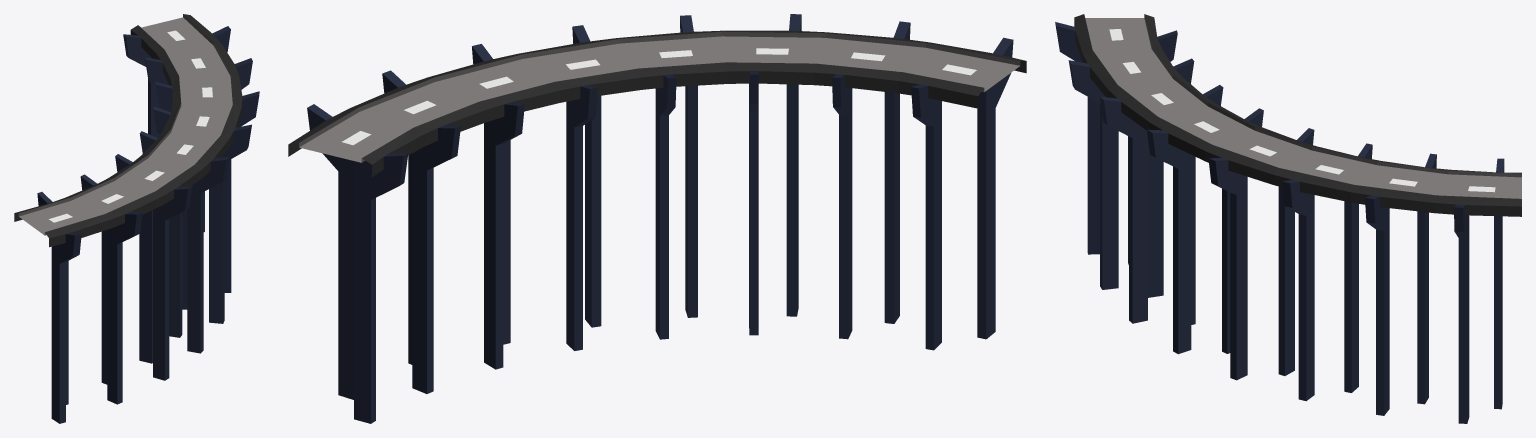
The model's file is road_bend_type_03.fbx.
3 renders of one model, left to right at view 1: azimuth 30°, elevation 25°; view 2: azimuth 150°, elevation 25°; view 3: azimuth 270°, elevation 25°, orthographic. The views are drawn at different scales.
Visible parts, largest first — view 1: road_bend_type_03; view 2: road_bend_type_03; view 3: road_bend_type_03.
Boxes of the visible parts, x1=… form: road_bend_type_03: x1=14, y1=14, x2=259, y2=423; road_bend_type_03: x1=288, y1=14, x2=1026, y2=423; road_bend_type_03: x1=1055, y1=14, x2=1521, y2=423.
Size of the model in its own units: 1934 by 1057 by 1947.
1 material, 1 textured.
